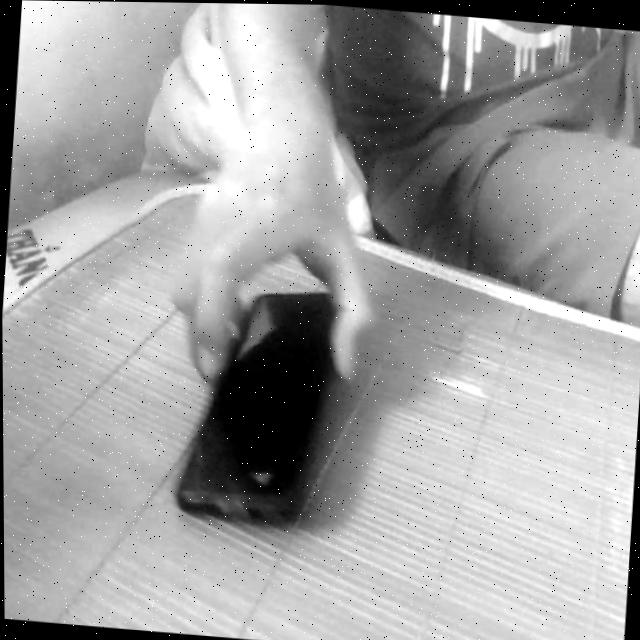phone: (153, 243, 368, 550)
